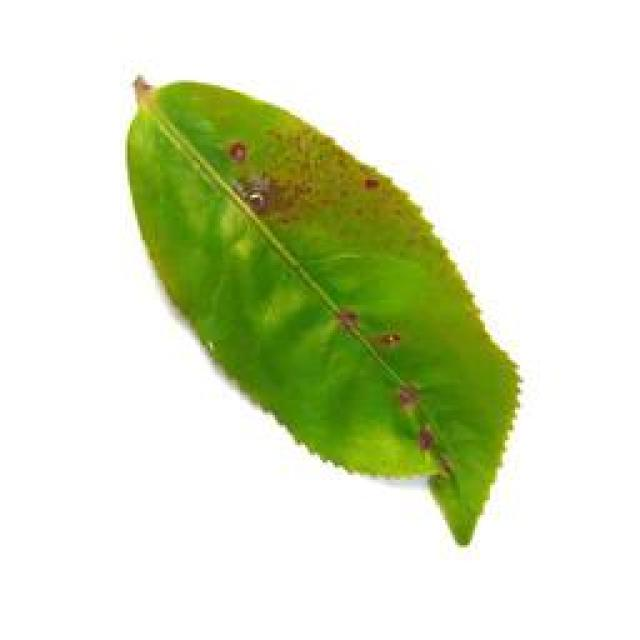Helopeltis: (114, 74, 542, 552)
